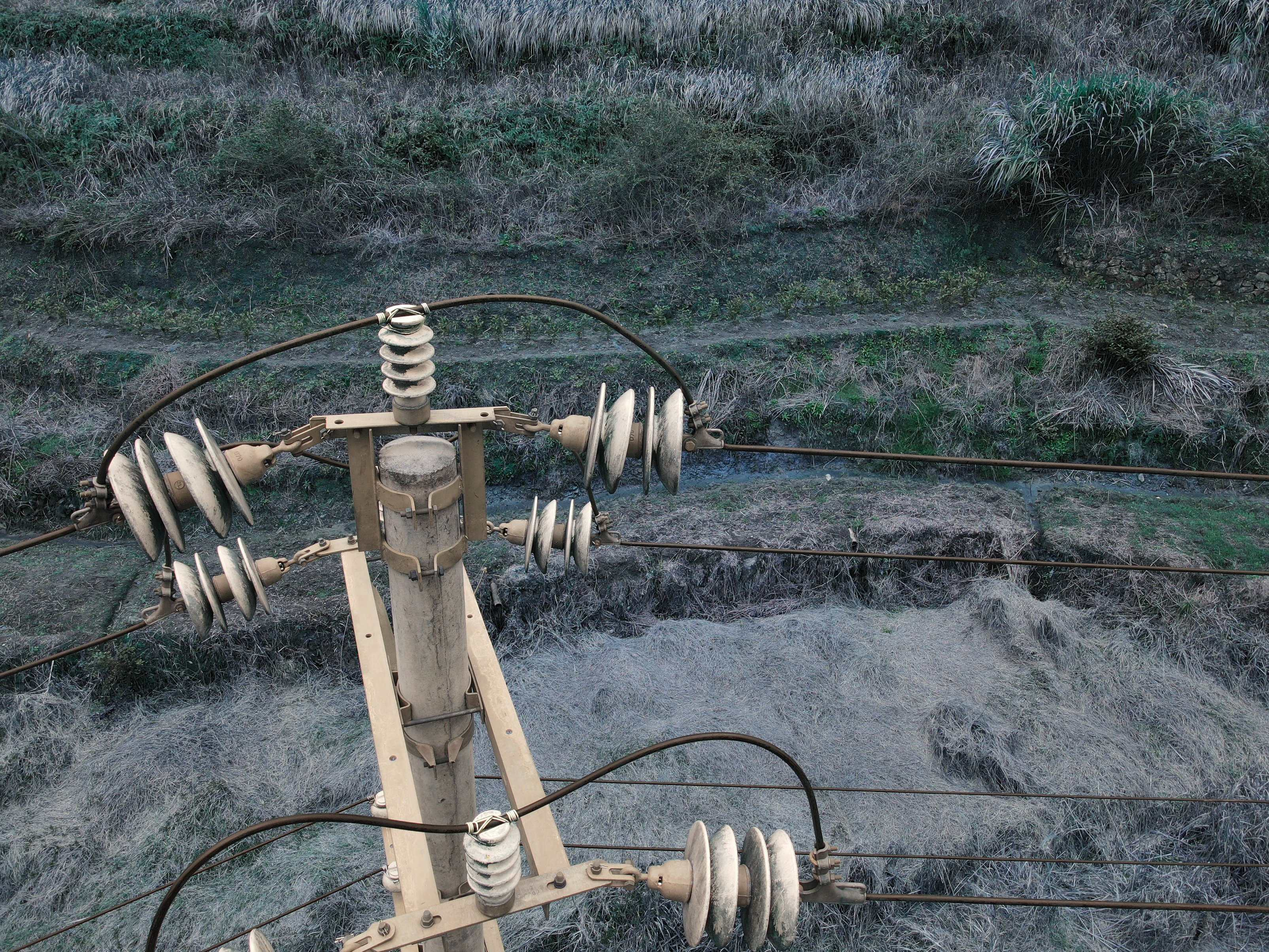severe_soiling_no_discharge_whole: (105, 414, 283, 566), (645, 818, 801, 947), (547, 380, 685, 495), (169, 538, 289, 640), (497, 495, 595, 576), (373, 304, 439, 424), (460, 809, 524, 919), (220, 927, 277, 952)
